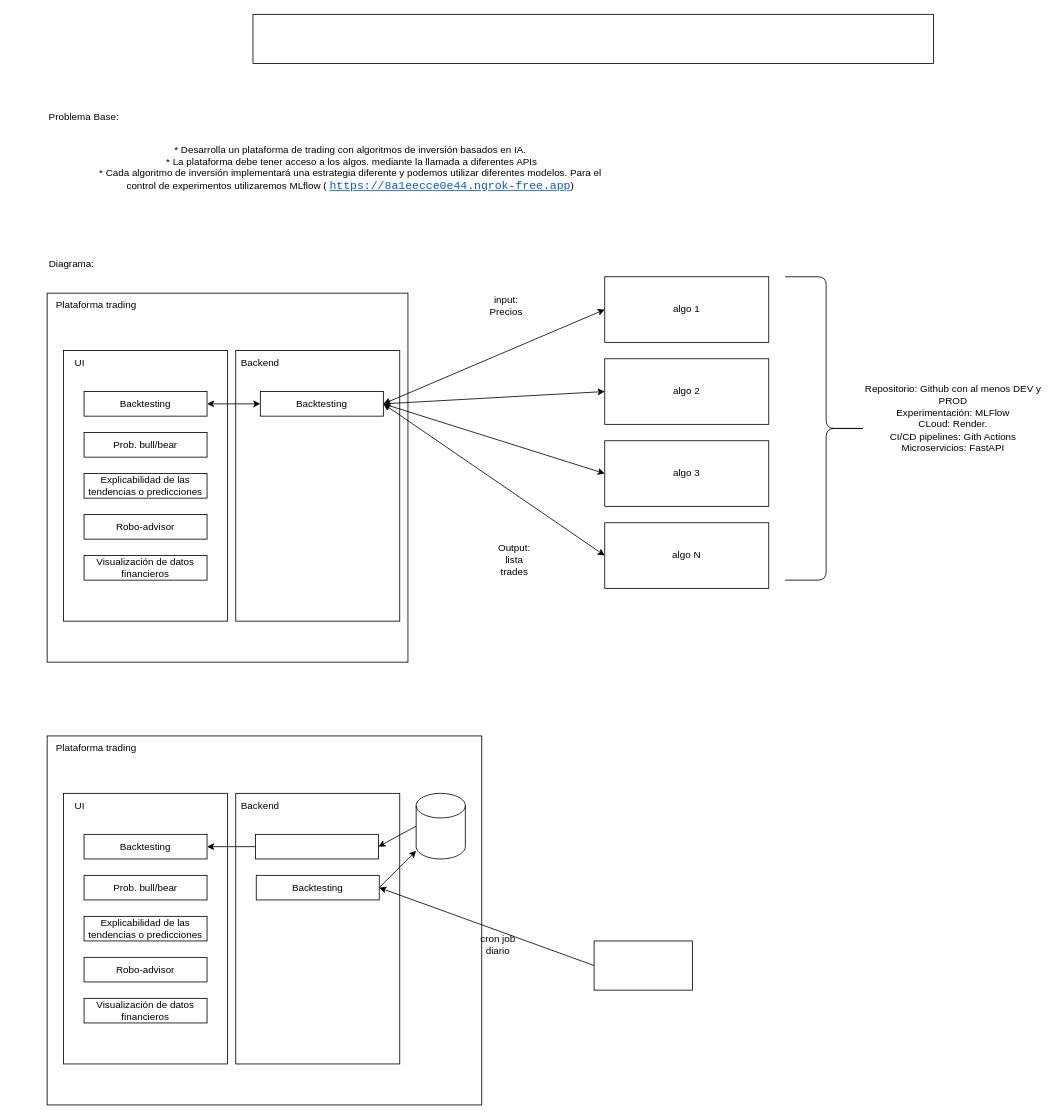
The diagram is 1061 pixels wide and 1119 high, and some of its shapes have lost their labels. Each missing label, with the centre of its shape:
algo i: point (642, 965)
fetch trades: point (316, 846)
USE CASE: Desarrollo de una Plataforma de Trading Social: point (593, 39)
